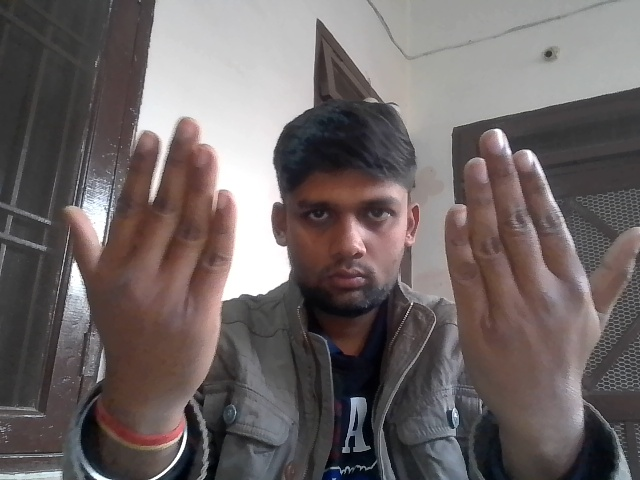ThankYou: (52, 105, 640, 393)
